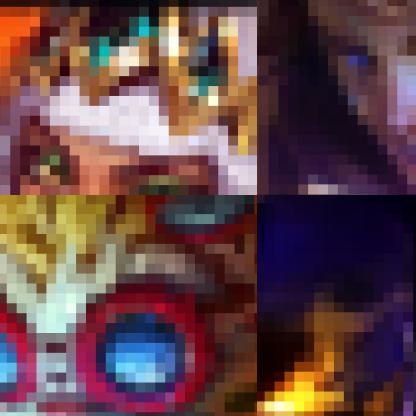Ezreal: (257, 0, 415, 194)
Heimerdinger: (0, 195, 256, 415)
Qiyana: (0, 0, 256, 194)
Veigar: (257, 195, 415, 415)
